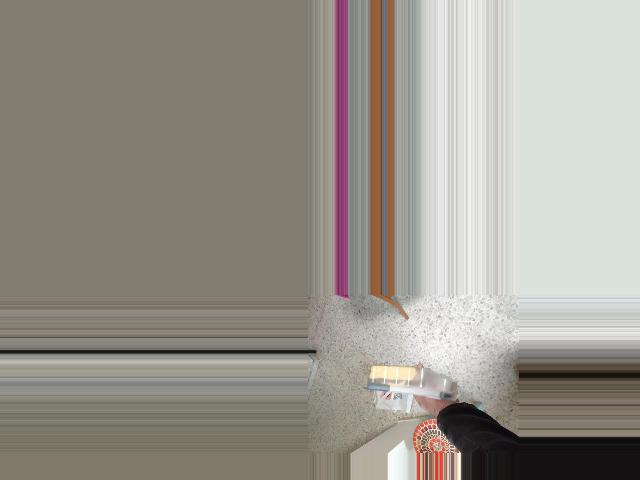cheese: (365, 340, 439, 447)
